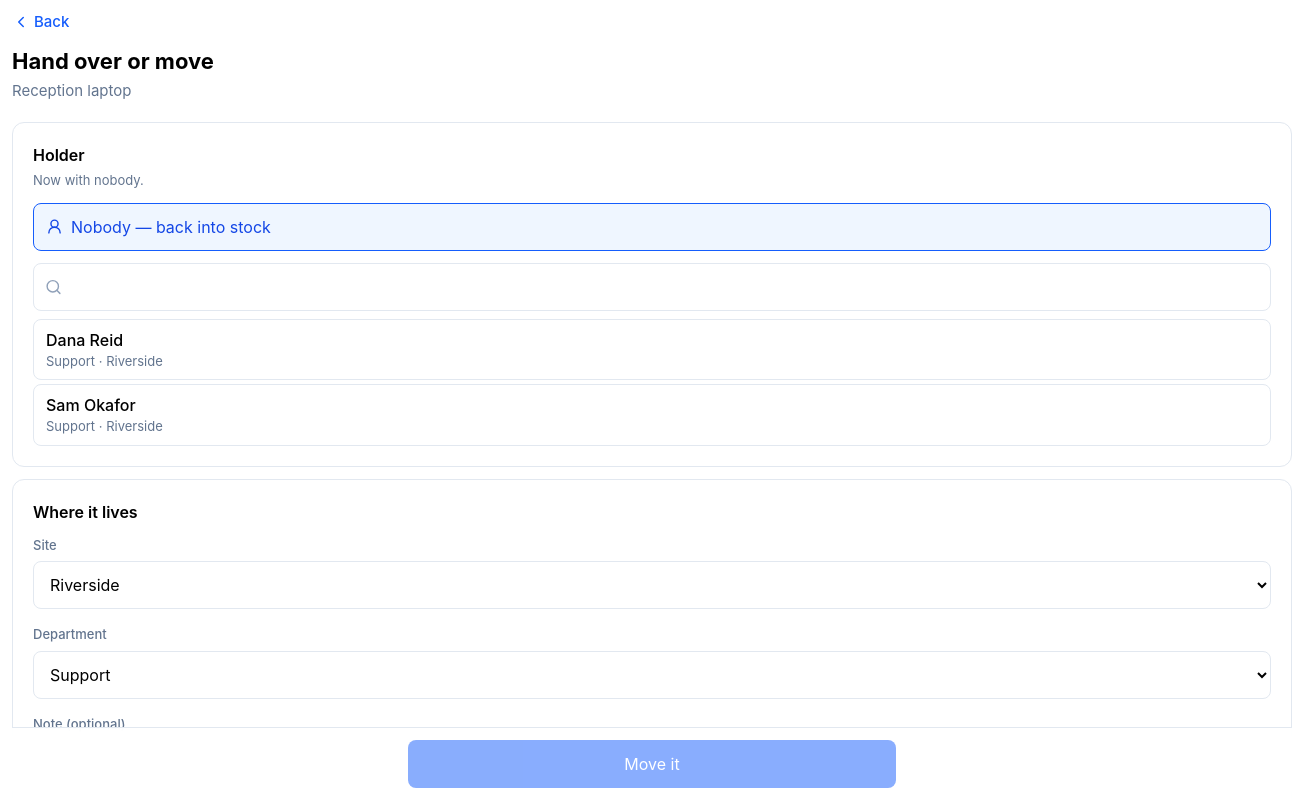
Test: FieldAssignPage › filters the directory on the phone, since the whole of it arrives at once
The width and height of the screenshot is (1292, 800).
Expected: the button "Dana Reid Support · Riverside" is shown, [33, 318, 1271, 380]
Type "okaf" into the field named "Search people" at (652, 286), box [33, 262, 1271, 310]
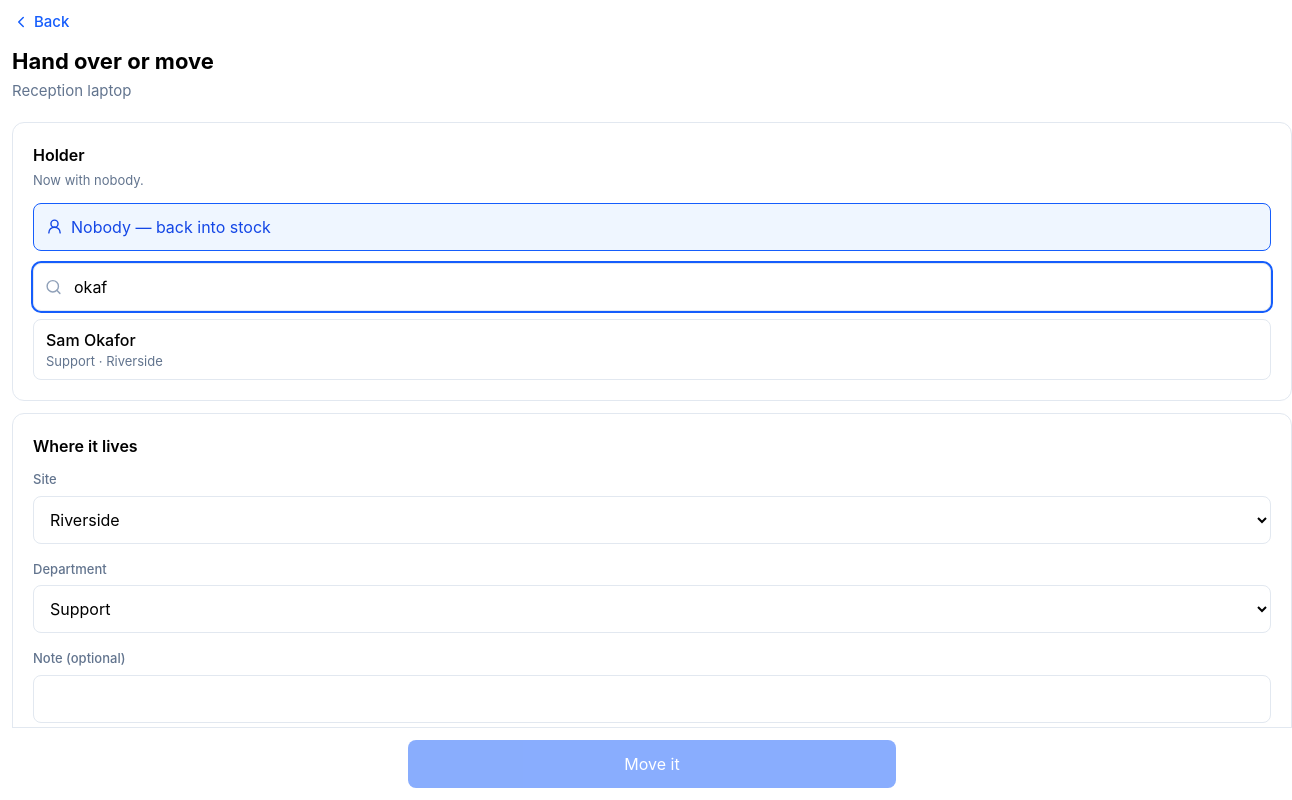
Expected: the button "Sam Okafor Support · Riverside" is shown, [33, 318, 1271, 380]
Now the button "Dana Reid" is gone
